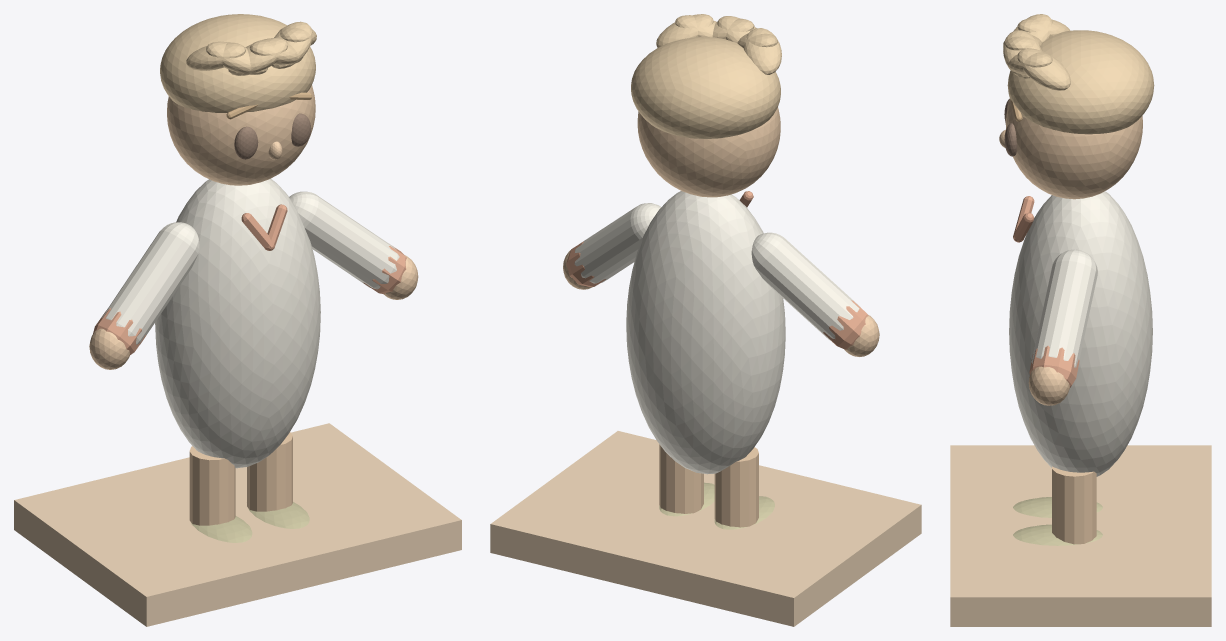
Rendered from orphan.glb.
3 renders of one model, left to right at view 1: azimuth 30°, elevation 25°; view 2: azimuth 150°, elevation 25°; view 3: azimuth 270°, elevation 25°, orthographic. The views are drawn at different scales.
Visible parts, largest first — view 1: Base, Tunic, Hair_Cap, Head, Sleeve_R, Sleeve_L, Leg_R, Leg_L, Hand_R, Sandal_R, Sandal_L, Hair_Spike_0 (+7 smaller); view 2: Base, Tunic, Hair_Cap, Head, Sleeve_R, Sleeve_L, Leg_R, Leg_L, Hair_Spike_0, Cuff_R, Hair_Spike_5, Hand_R; view 3: Base, Tunic, Hair_Cap, Head, Sleeve_L, Leg_L, Hand_L, Hair_Spike_5, Cuff_L, Sandal_L, Sandal_R, Hair_Spike_4 (+4 smaller).
Part boxes in pixels (x1=…): Base: x1=14, y1=423, x2=461, y2=626; Tunic: x1=155, y1=178, x2=320, y2=468; Hair_Cap: x1=160, y1=14, x2=315, y2=112; Head: x1=167, y1=85, x2=315, y2=185; Sleeve_R: x1=102, y1=222, x2=199, y2=344; Sleeve_L: x1=289, y1=191, x2=399, y2=289; Leg_R: x1=189, y1=446, x2=235, y2=525; Leg_L: x1=247, y1=432, x2=292, y2=511; Hand_R: x1=89, y1=328, x2=129, y2=369; Sandal_R: x1=191, y1=516, x2=252, y2=542; Sandal_L: x1=248, y1=502, x2=309, y2=528; Hair_Spike_0: x1=186, y1=42, x2=245, y2=70; Base: x1=490, y1=431, x2=921, y2=626; Tunic: x1=626, y1=191, x2=785, y2=474; Hair_Cap: x1=631, y1=37, x2=780, y2=138; Head: x1=637, y1=107, x2=780, y2=197; Sleeve_R: x1=751, y1=232, x2=859, y2=341; Sleeve_L: x1=574, y1=203, x2=661, y2=283; Leg_R: x1=714, y1=447, x2=758, y2=527; Leg_L: x1=659, y1=444, x2=703, y2=513; Hair_Spike_0: x1=743, y1=28, x2=781, y2=74; Cuff_R: x1=823, y1=300, x2=868, y2=349; Hair_Spike_5: x1=656, y1=14, x2=713, y2=47; Hand_R: x1=844, y1=315, x2=879, y2=356; Base: x1=950, y1=445, x2=1211, y2=626; Tunic: x1=1009, y1=191, x2=1152, y2=476; Hair_Cap: x1=1007, y1=30, x2=1154, y2=134; Head: x1=1005, y1=99, x2=1142, y2=199; Sleeve_L: x1=1031, y1=249, x2=1097, y2=367; Leg_L: x1=1052, y1=466, x2=1096, y2=544; Hand_L: x1=1028, y1=366, x2=1069, y2=405; Hair_Spike_5: x1=1017, y1=48, x2=1070, y2=90; Cuff_L: x1=1029, y1=345, x2=1079, y2=388; Sandal_L: x1=1013, y1=524, x2=1102, y2=545; Sandal_R: x1=1013, y1=497, x2=1102, y2=517; Hair_Spike_4: x1=1008, y1=52, x2=1052, y2=74.
Bounding box in the file's own units: 0.564 × 0.8688 × 0.4.
